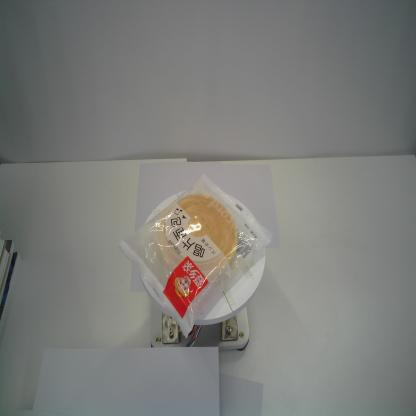Dessert: (116, 172, 274, 340)
